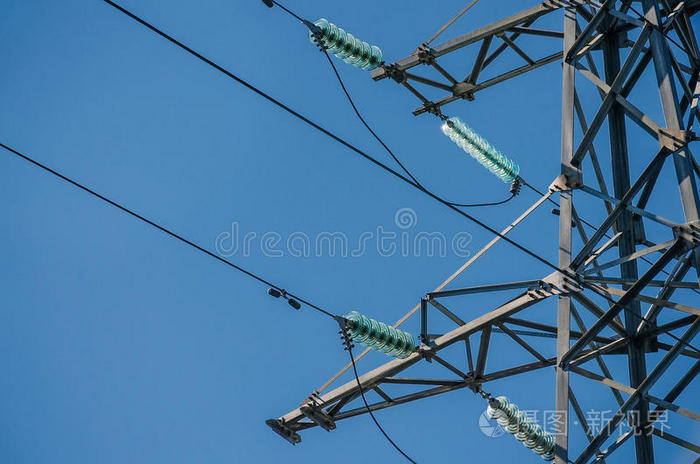insulator: (444, 119, 518, 182), (485, 395, 554, 459), (309, 18, 382, 68), (342, 312, 412, 361)
